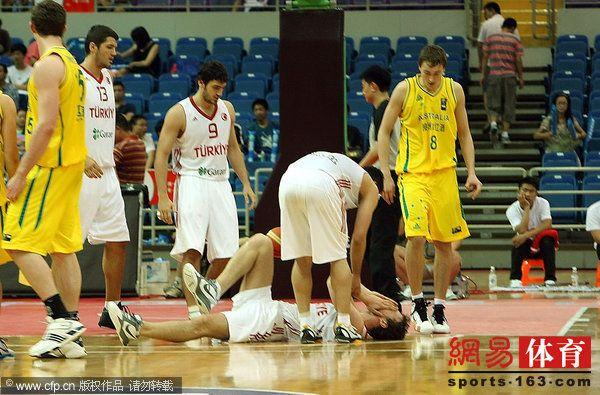bending: (270, 132, 392, 349), (506, 173, 561, 285)
down: (98, 236, 422, 351)
up: (1, 1, 92, 364), (381, 42, 479, 344), (152, 56, 258, 324), (72, 20, 133, 333), (470, 11, 528, 150)
